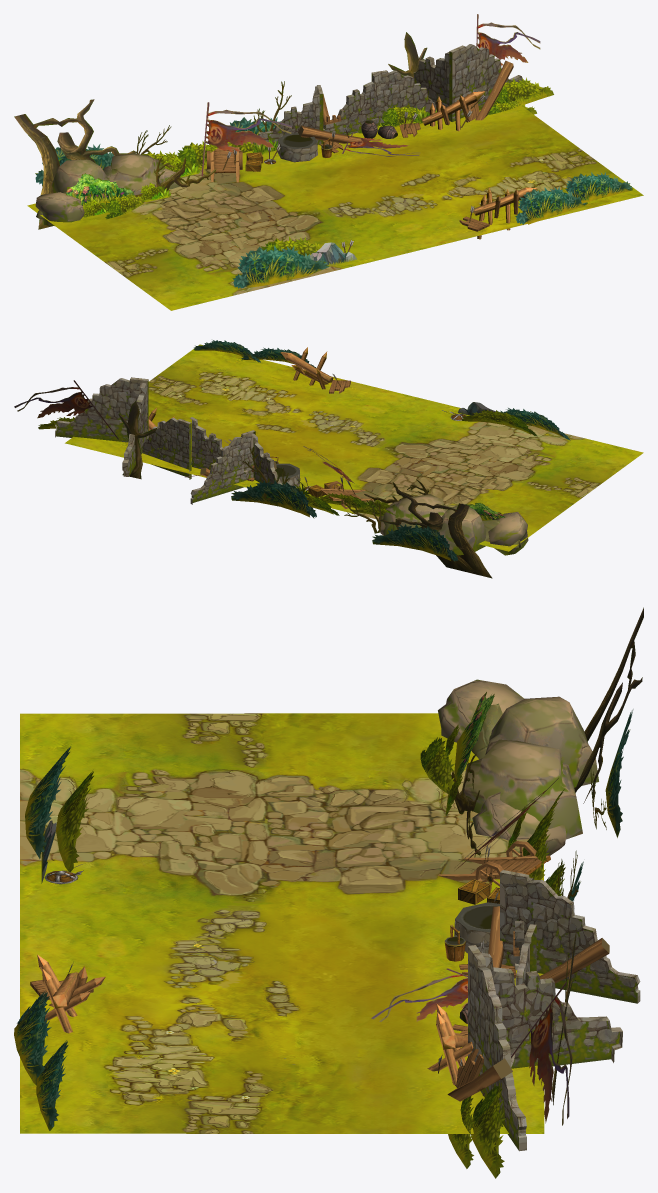
Rendered from dierguan.FBX.
3 views of the same model, one above another, from view 1: azimuth 30°, elevation 25°; view 2: azimuth 150°, elevation 25°; view 3: azimuth 270°, elevation 25° (orthographic). The views are drawn at different scales.
Parts seen in each view (by area): view 1: Plane01, Plane73, Plane54, Object04, Object07, Plane71, Plane70, Object30, Object06, Plane04, Object05, Object25 (+18 smaller); view 2: Plane01, Plane73, Plane04, Plane54, Plane71, Object57, Object54, Object30, Object25, Object22, Object07, Plane76 (+10 smaller); view 3: Plane01, Plane73, Plane04, Object30, Object22, Plane76, Object25, Object24, Plane54, Object41, Object06, Object51 (+13 smaller).
Boxes of the visible parts, x1=… form: Plane01: x1=27, y1=105, x2=643, y2=310; Plane73: x1=402, y1=44, x2=522, y2=121; Plane54: x1=14, y1=99, x2=136, y2=229; Object04: x1=232, y1=245, x2=329, y2=288; Object07: x1=323, y1=72, x2=380, y2=135; Plane71: x1=371, y1=70, x2=436, y2=122; Plane70: x1=201, y1=102, x2=291, y2=175; Object30: x1=103, y1=153, x2=165, y2=195; Object06: x1=515, y1=186, x2=587, y2=224; Plane04: x1=253, y1=85, x2=328, y2=146; Object05: x1=565, y1=172, x2=632, y2=203; Object25: x1=35, y1=192, x2=84, y2=225; Plane01: x1=65, y1=344, x2=643, y2=551; Plane73: x1=55, y1=377, x2=148, y2=476; Plane04: x1=190, y1=430, x2=282, y2=504; Plane54: x1=380, y1=489, x2=492, y2=578; Plane71: x1=141, y1=418, x2=191, y2=479; Object57: x1=372, y1=524, x2=457, y2=562; Object54: x1=231, y1=480, x2=316, y2=518; Object30: x1=383, y1=494, x2=451, y2=535; Object25: x1=488, y1=512, x2=528, y2=555; Object22: x1=437, y1=503, x2=485, y2=555; Object07: x1=190, y1=417, x2=248, y2=479; Plane76: x1=14, y1=380, x2=118, y2=439; Plane01: x1=20, y1=713, x2=544, y2=1133; Plane73: x1=447, y1=945, x2=622, y2=1151; Plane04: x1=500, y1=870, x2=640, y2=1003; Object30: x1=462, y1=739, x2=582, y2=839; Object22: x1=485, y1=696, x2=598, y2=787; Plane76: x1=482, y1=981, x2=572, y2=1125; Object25: x1=438, y1=679, x2=524, y2=742; Object24: x1=472, y1=792, x2=566, y2=855; Plane54: x1=574, y1=607, x2=643, y2=803; Object41: x1=37, y1=954, x2=105, y2=1033; Object06: x1=14, y1=990, x2=51, y2=1085; Object51: x1=471, y1=1085, x2=505, y2=1178.
Size of the model in its own units: 27.75 by 15.87 by 5.35.
